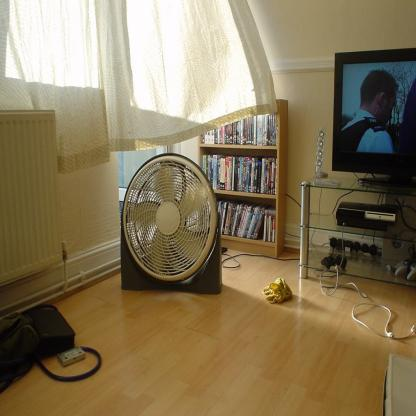book: (204, 200, 277, 242), (201, 156, 277, 196), (201, 112, 277, 146)
